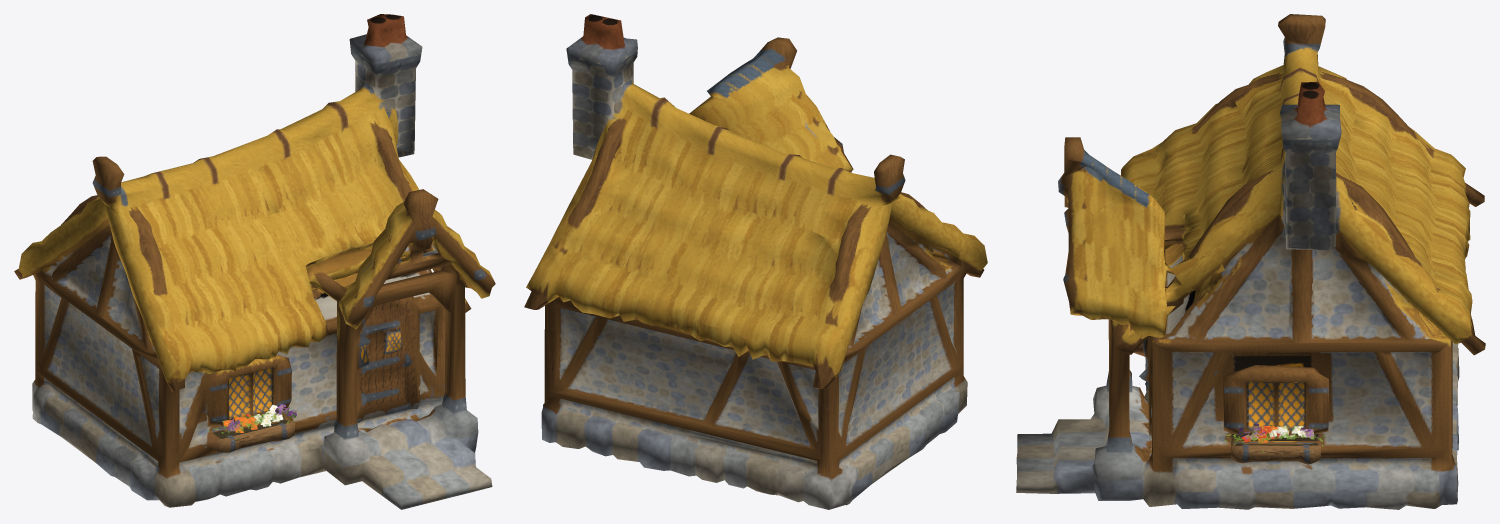
The model's file is cottage_b.glb.
3 renders of one model, left to right at view 1: azimuth 30°, elevation 25°; view 2: azimuth 150°, elevation 25°; view 3: azimuth 270°, elevation 25°, orthographic. The views are drawn at different scales.
Visible parts, largest first — view 1: cottage_b, cottage_b_fringe; view 2: cottage_b; view 3: cottage_b, cottage_b_fringe.
Part boxes in pixels (x1,y1,x2,y2): cottage_b: (14, 14, 495, 509); cottage_b_fringe: (207, 404, 296, 439); cottage_b: (524, 14, 987, 509); cottage_b: (1016, 14, 1485, 509); cottage_b_fringe: (1224, 423, 1325, 452).
Size of the model in its own units: 5.18 by 5.5 by 5.58.
2 materials, 2 textured.
